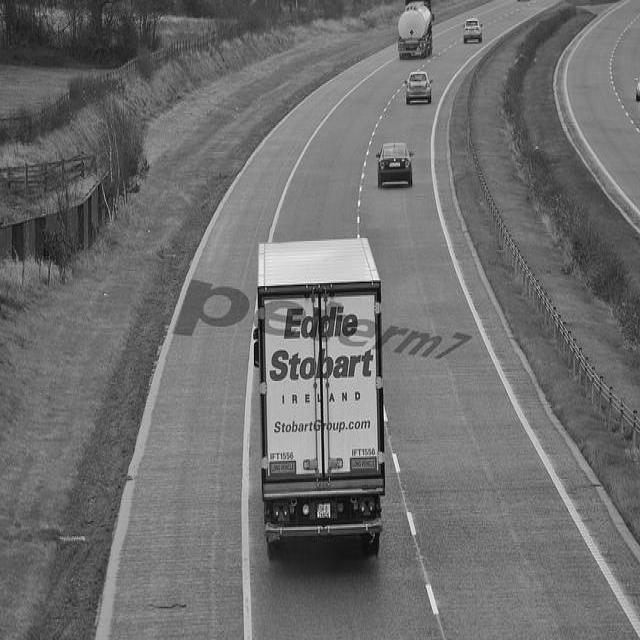vehicle: (260, 240, 382, 568), (396, 0, 436, 60), (375, 139, 413, 187), (404, 71, 433, 103), (463, 18, 483, 43)
